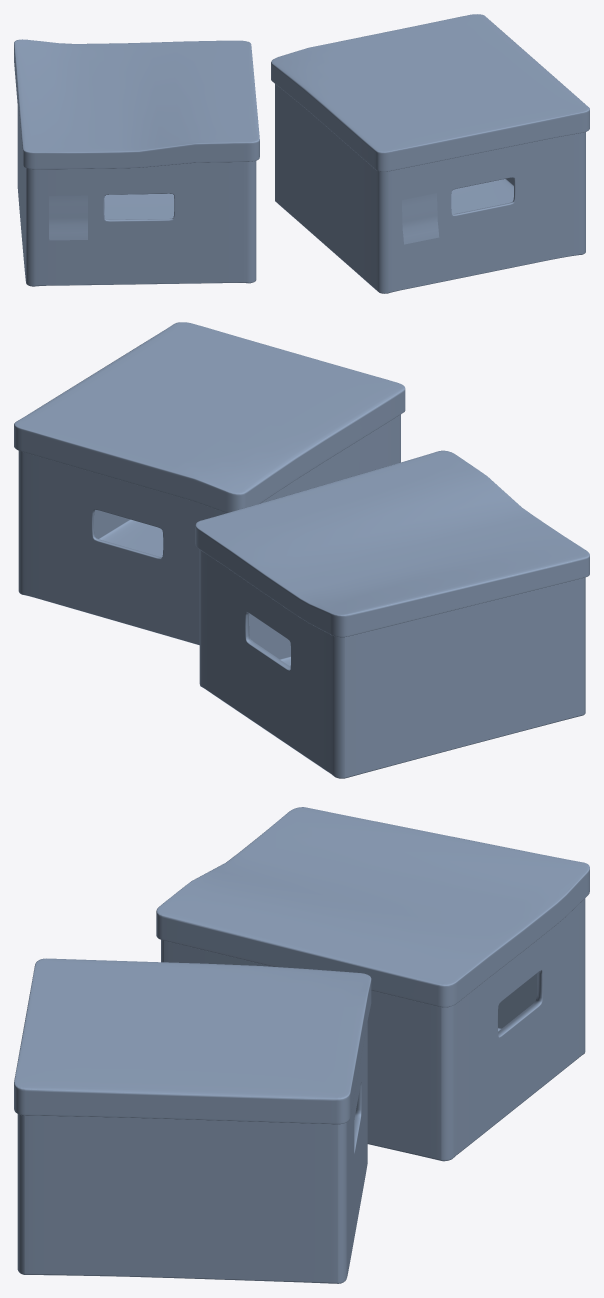
File: M_Cajas Azules.fbx
3 views of the same model, one above another, from view 1: azimuth 30°, elevation 25°; view 2: azimuth 150°, elevation 25°; view 3: azimuth 270°, elevation 25° (orthographic). The views are drawn at different scales.
Visible parts, largest first — view 1: OfficeBoxV34_polySurface1; view 2: OfficeBoxV34_polySurface1; view 3: OfficeBoxV34_polySurface1.
Part boxes in pixels (<box>): OfficeBoxV34_polySurface1: <box>14,14,589,293</box>; OfficeBoxV34_polySurface1: <box>14,322,589,778</box>; OfficeBoxV34_polySurface1: <box>14,807,589,1283</box>.
Size of the model in its own units: 12.02 by 3.51 by 9.63.
